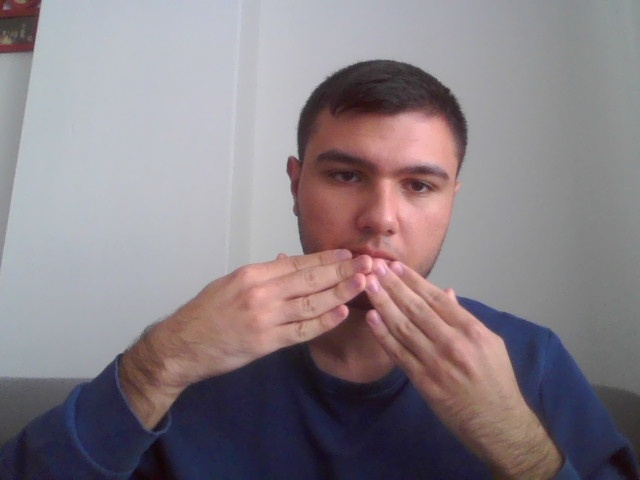thanks: (143, 249, 570, 471)
